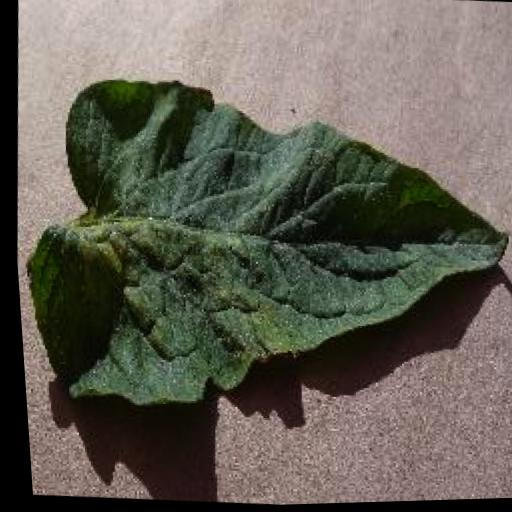Spider Mites: (4, 66, 512, 437)
